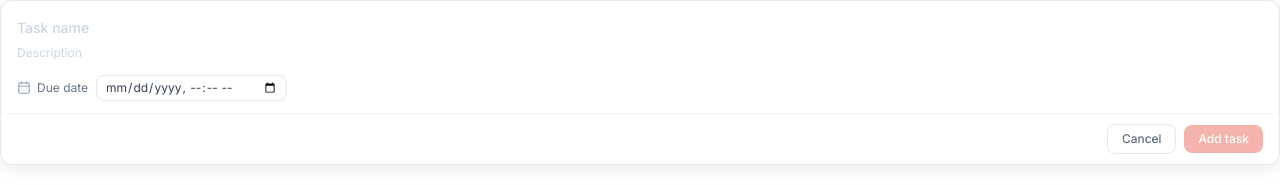
Test: AddForm — rendering › enables Add task button when title has text
The image size is (1280, 185).
Type "hello" into the field with placeholder "Task name" at (640, 28), box [17,18,1263,38]
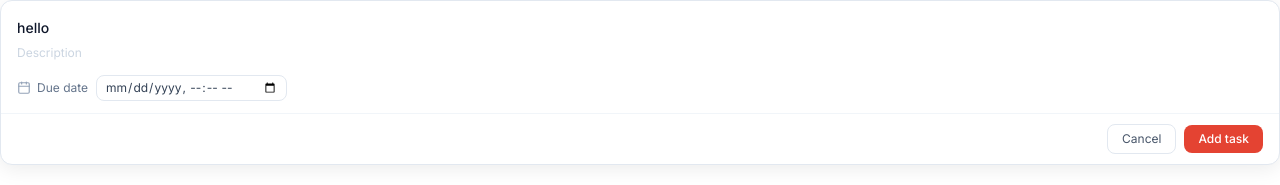
Now the button "Add task" is enabled, box [1184,125,1263,153]
